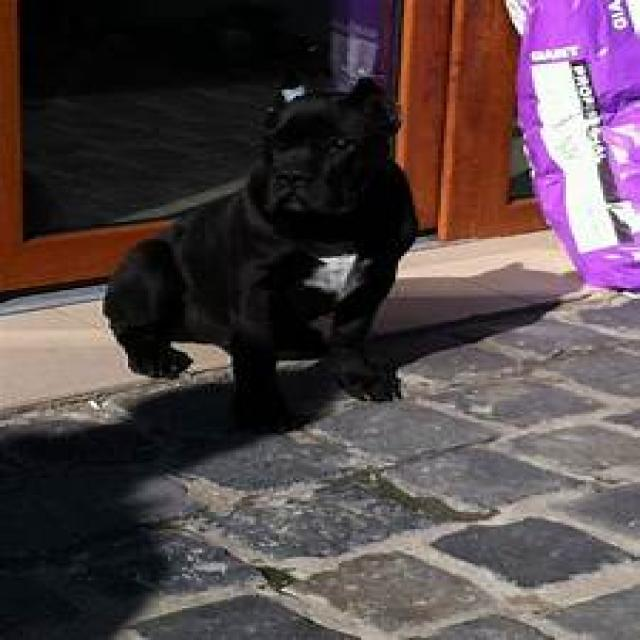dog: (103, 79, 415, 428)
